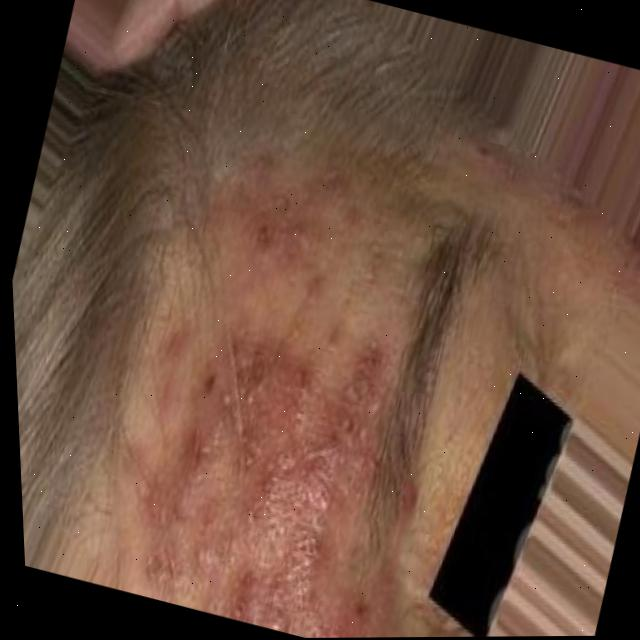Rosacea: (104, 161, 460, 639)
